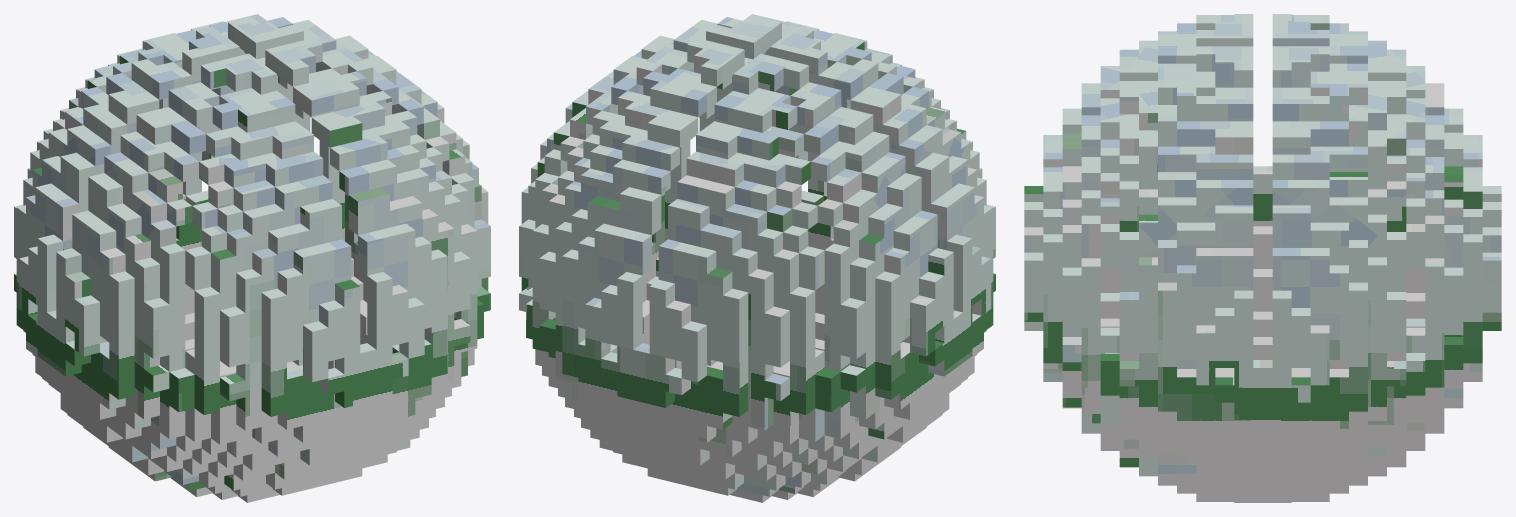
The model's file is shuttlecock.glb.
3 views of the same model, side by side, from view 1: azimuth 30°, elevation 25°; view 2: azimuth 150°, elevation 25°; view 3: azimuth 270°, elevation 25° (orthographic). The views are drawn at different scales.
Parts seen in each view (by area): view 1: Shuttlecock_Normal_01.001; view 2: Shuttlecock_Normal_01.001; view 3: Shuttlecock_Normal_01.001.
Boxes of the visible parts, x1,y1,x2,y2 form: Shuttlecock_Normal_01.001: (14,14,490,502); Shuttlecock_Normal_01.001: (519,14,995,502); Shuttlecock_Normal_01.001: (1024,14,1501,502).
Bounding box in the file's own units: 2.5 × 2.5 × 2.5.
Materials: 1 (1 with a texture image).
